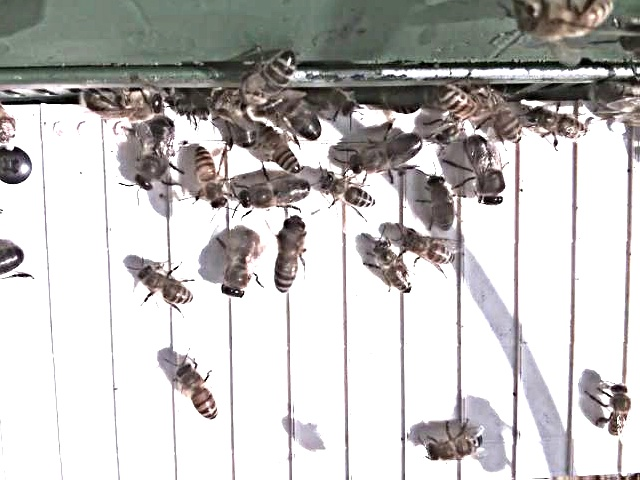Drone: (348, 129, 427, 177), (464, 132, 510, 213), (134, 116, 180, 195), (237, 173, 316, 213), (222, 230, 265, 301), (284, 93, 326, 148)
Worker: (176, 360, 222, 428), (135, 262, 198, 310), (274, 216, 309, 300), (191, 144, 231, 216), (316, 169, 381, 213), (401, 228, 461, 272), (423, 427, 488, 466), (258, 126, 303, 179), (530, 108, 591, 146), (374, 242, 416, 297), (423, 173, 459, 236), (602, 380, 636, 445)
